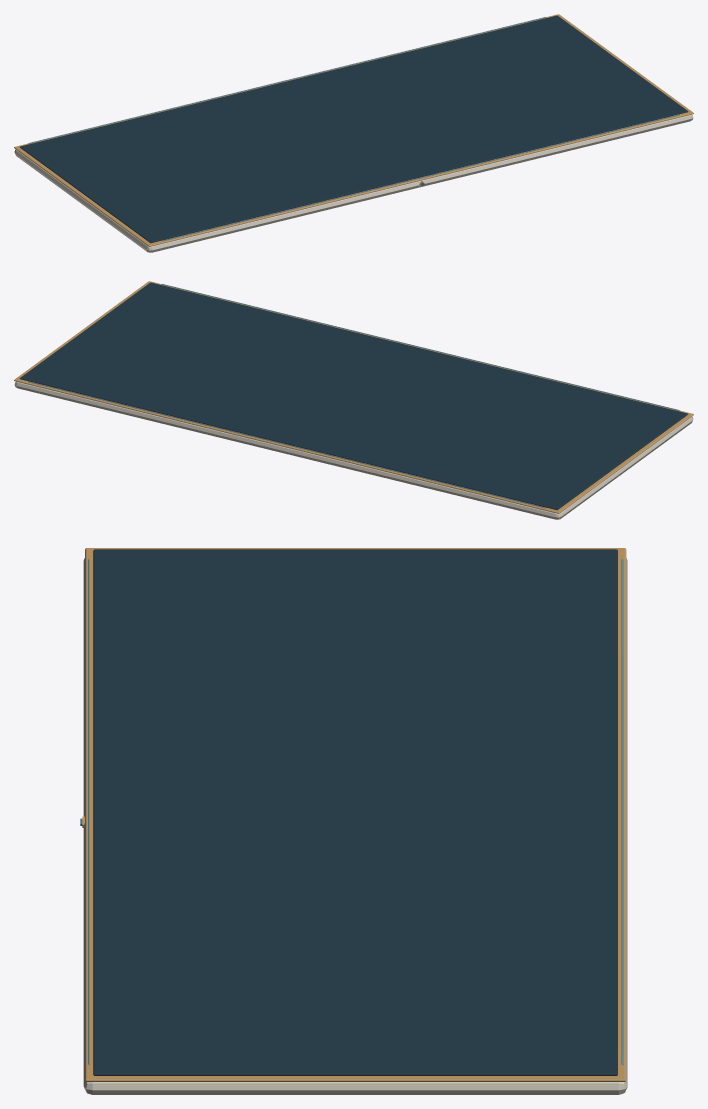
The model's file is supply.glb.
3 views of the same model, one above another, from view 1: azimuth 30°, elevation 25°; view 2: azimuth 150°, elevation 25°; view 3: azimuth 270°, elevation 25° (orthographic). The views are drawn at different scales.
Visible parts, largest first — view 1: SupplyVisual; view 2: SupplyVisual; view 3: SupplyVisual.
Part boxes in pixels (x1,y1,x2,y2): SupplyVisual: (14,14,693,252); SupplyVisual: (14,281,693,519); SupplyVisual: (80,548,627,1094).
Size of the model in its own units: 0.288 by 0.00512 by 0.1249.
